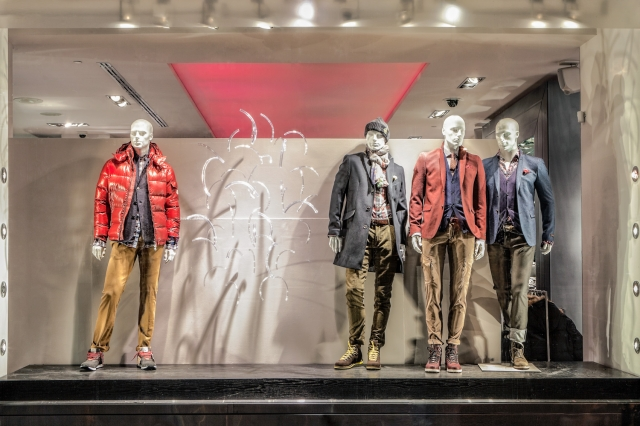person-like: (77, 116, 183, 374), (406, 113, 490, 376), (326, 116, 409, 373), (480, 114, 558, 370)
